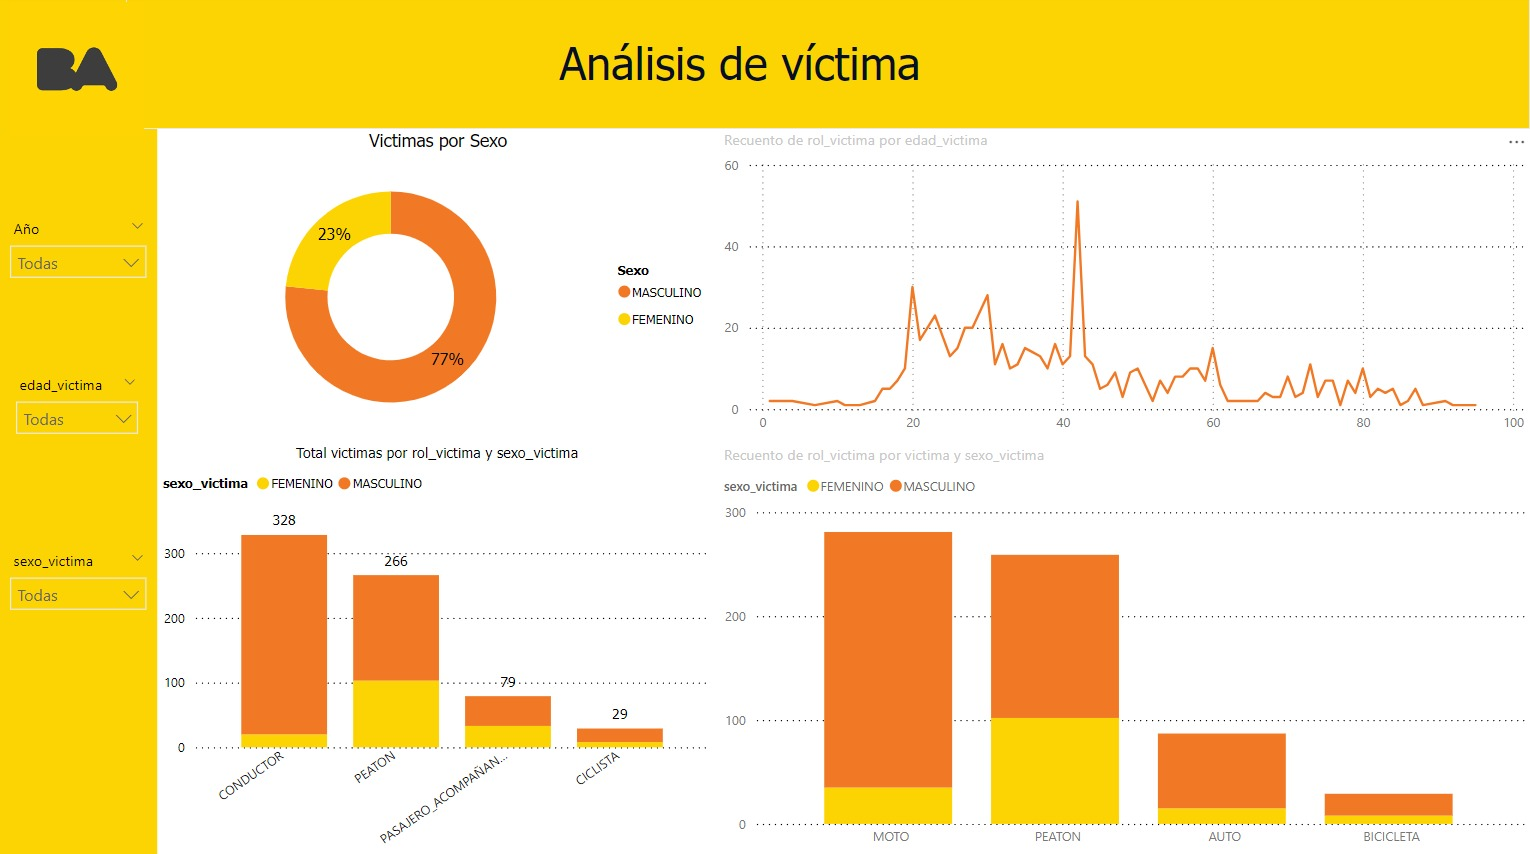

The page's visual inventory and layout, read from the dashboard file:
{"tool":"powerbi","page":{"name":"Análisis de víctima","canvas":[1280,720],"ordinal":2},"visuals":[{"type":"shape","box":[0,0,133.3,719.8],"z":0},{"type":"shape","box":[106.9,0,1173.1,110.8],"z":1000},{"type":"image","box":[0,0,132.2,121.7],"z":2000},{"type":"textbox","box":[268.4,28.8,703,68.1],"z":3000},{"type":"donutChart","title":"Victimas por Sexo","fields":{"Category":["victimas.sexo_victima"],"Y":["hechos.Total victimas"]},"box":[133.3,111.1,486.2,274.7],"z":4000},{"type":"columnChart","title":"Víctimas por rango etario y sexo","fields":{"Category":["victimas.Rango Etario"],"Y":["CountNonNull(victimas.rol_victima)"],"Series":["victimas.sexo_victima"]},"box":[133.3,385.8,486.2,334.2],"z":5000},{"type":"slicer","fields":{"Values":["hechos.fecha.Variación.Jerarquía de fechas.Año"]},"box":[0,189.8,123.1,137],"z":6000},{"type":"areaChart","title":"Rol de la víctima por rango de edad","fields":{"Category":["victimas.edad_victima"],"Y":["CountNonNull(victimas.rol_victima)"]},"box":[628.4,111.1,635.6,274.7],"z":7000},{"type":"columnChart","title":"Víctima por medio de transporte y sexo","fields":{"Category":["hechos.victima"],"Y":["CountNonNull(victimas.rol_victima)"],"Series":["victimas.sexo_victima"]},"box":[628.4,385.8,635.6,334.2],"z":8000},{"type":"slicer","fields":{"Values":["victimas.sexo_victima"]},"box":[0,477.8,123.1,137],"z":10000}]}

Visuals, with their boxes in screenshot pixels (x1, y1, x2, y2), scaled from the page's 1280x720 canvas onto the 1530x854 screenshot:
shape: (x1=0, y1=0, x2=159, y2=853)
shape: (x1=128, y1=0, x2=1529, y2=131)
image: (x1=0, y1=0, x2=158, y2=144)
textbox: (x1=321, y1=34, x2=1161, y2=115)
"Victimas por Sexo" donutChart: (x1=159, y1=132, x2=740, y2=458)
"Víctimas por rango etario y sexo" columnChart: (x1=159, y1=458, x2=740, y2=853)
slicer - hechos.fecha.Variación.Jerarquía de fechas.Año: (x1=0, y1=225, x2=147, y2=388)
"Rol de la víctima por rango de edad" areaChart: (x1=751, y1=132, x2=1511, y2=458)
"Víctima por medio de transporte y sexo" columnChart: (x1=751, y1=458, x2=1511, y2=853)
slicer - victimas.sexo_victima: (x1=0, y1=567, x2=147, y2=729)
